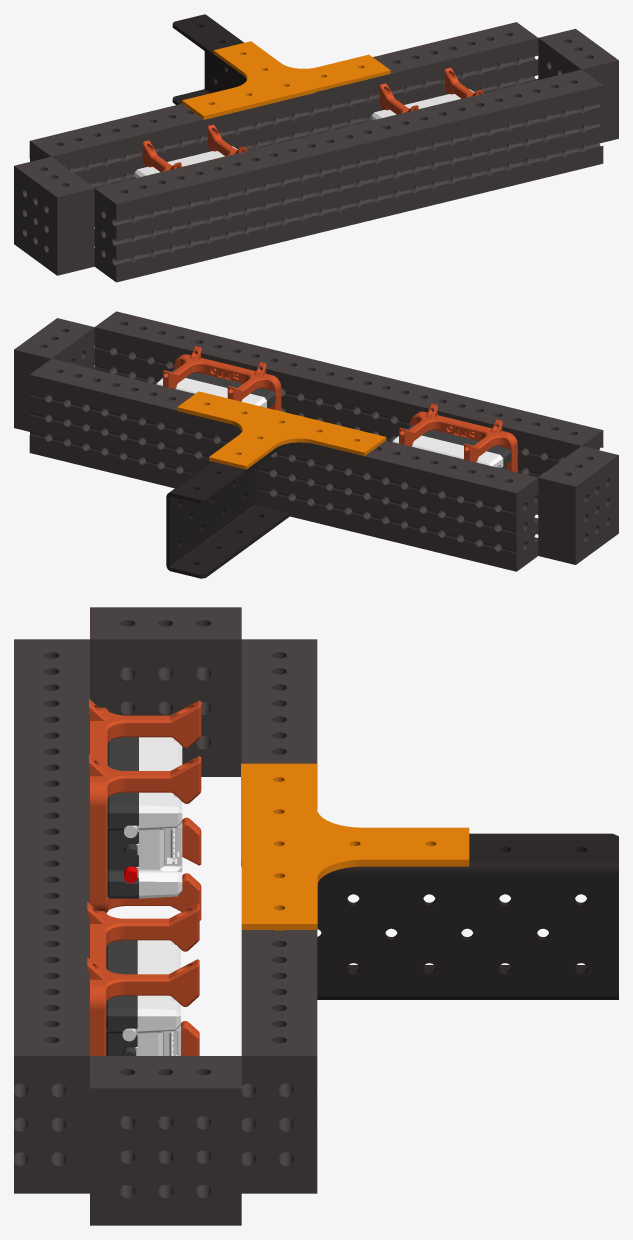
3 renders of one model, top to bottom at view 1: azimuth 30°, elevation 25°; view 2: azimuth 150°, elevation 25°; view 3: azimuth 270°, elevation 25°, orthographic. The views are drawn at different scales.
Parts seen in each view (by area): view 1: Part 8, Part 9, Part 10, Part 1 (×2), Part 11, 217-4108-STEP-20140806, SparkHolderExtension (×2), SPARK MAX REV-11-2158 (20) (×2); view 2: Part 9, Part 8, 217-4108-STEP-20140806, Part 10, Part 1 (×2), SparkHolderExtension (×2), Part 11, SPARK MAX REV-11-2158 (20) (×2), SPARK MAX REV-11-2158 (15) (×2); view 3: 217-4108-STEP-20140806, Part 8, Part 9, Part 11, Part 1 (×2), SparkHolderExtension (×2), Part 10, SPARK MAX REV-11-2158 (20) (×2), SPARK MAX REV-11-2158 (15) (×2).
Boxes of the visible parts, x1,y1,x2,y2 form: Part 8: (94, 69, 603, 282); Part 9: (29, 22, 538, 208); Part 10: (14, 156, 94, 275); Part 1 (×2): (182, 41, 390, 119); Part 11: (538, 28, 618, 143); 217-4108-STEP-20140806: (172, 14, 246, 104); SparkHolderExtension (×2): (142, 67, 483, 172); SPARK MAX REV-11-2158 (20) (×2): (134, 89, 474, 177); Part 9: (29, 359, 538, 571); Part 8: (94, 311, 603, 498); 217-4108-STEP-20140806: (166, 443, 289, 578); Part 10: (538, 446, 618, 564); Part 1 (×2): (177, 391, 386, 469); SparkHolderExtension (×2): (163, 346, 517, 472); Part 11: (14, 318, 94, 431); SPARK MAX REV-11-2158 (20) (×2): (156, 378, 503, 467); SPARK MAX REV-11-2158 (15) (×2): (171, 367, 511, 468); 217-4108-STEP-20140806: (317, 833, 618, 999); Part 8: (14, 639, 89, 1193); Part 9: (241, 639, 317, 1193); Part 11: (90, 1056, 241, 1225); Part 1 (×2): (241, 763, 469, 930); SparkHolderExtension (×2): (87, 699, 201, 1055); Part 10: (90, 607, 241, 776); SPARK MAX REV-11-2158 (20) (×2): (134, 737, 182, 1055); SPARK MAX REV-11-2158 (15) (×2): (106, 737, 138, 1055).
Bounding box in the file's own units: 0.381 × 0.0612 × 0.2026.
